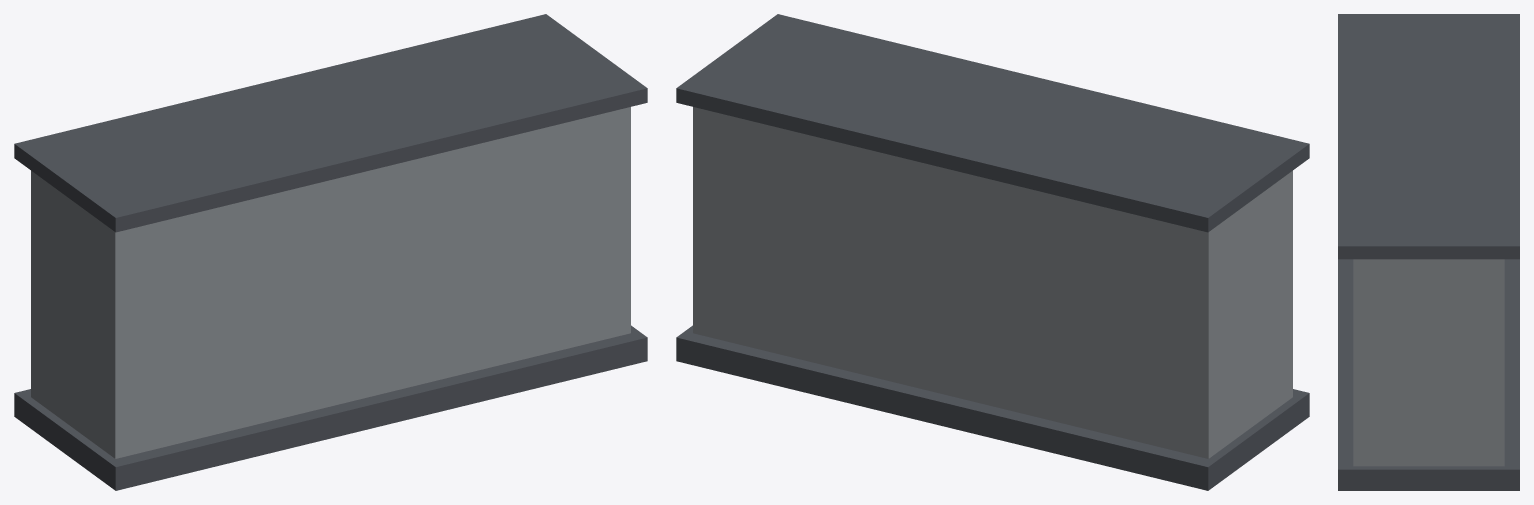
Rendered from Kitchen_Table_3.fbx.
3 renders of one model, left to right at view 1: azimuth 30°, elevation 25°; view 2: azimuth 150°, elevation 25°; view 3: azimuth 270°, elevation 25°, orthographic. The views are drawn at different scales.
Parts seen in each view (by area): view 1: polySurface1790; view 2: polySurface1790; view 3: polySurface1790.
Boxes of the visible parts, x1,y1,x2,y2 form: polySurface1790: (14,14,647,490); polySurface1790: (676,14,1309,490); polySurface1790: (1338,14,1519,490).
Bounding box in the file's own units: 2.3 × 1.13 × 0.76.
1 material, 1 textured.
